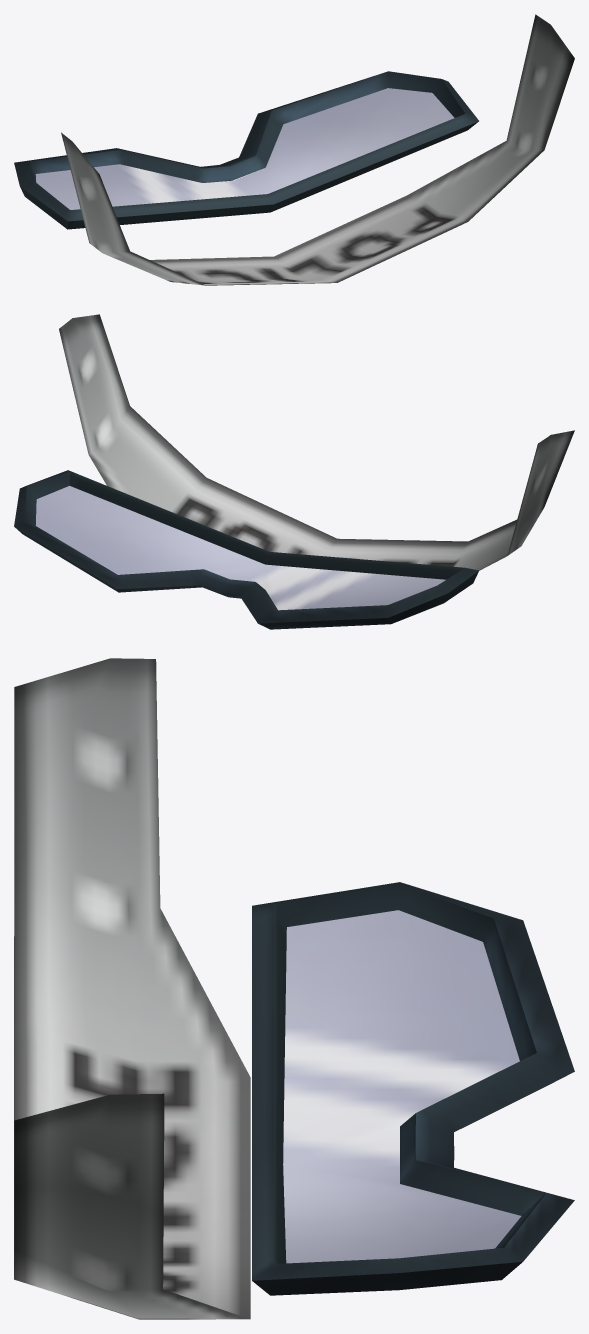
File: Avatar_Swat_H_02_75f0d74a__Avatar_Swat_C_02_acc93a74_c1f257.obj
3 views of the same model, one above another, from view 1: azimuth 30°, elevation 25°; view 2: azimuth 150°, elevation 25°; view 3: azimuth 270°, elevation 25° (orthographic). The views are drawn at different scales.
Bounding box in the file's own units: 0.7979 × 0.3203 × 0.4336.
Materials: 1 (1 with a texture image).
